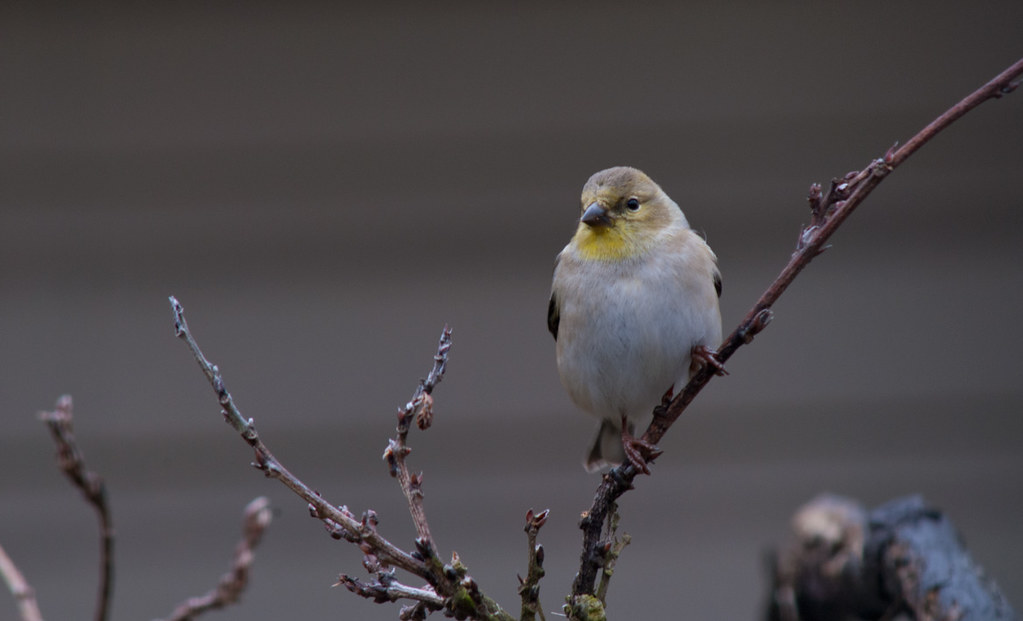bird: (556, 160, 721, 493)
